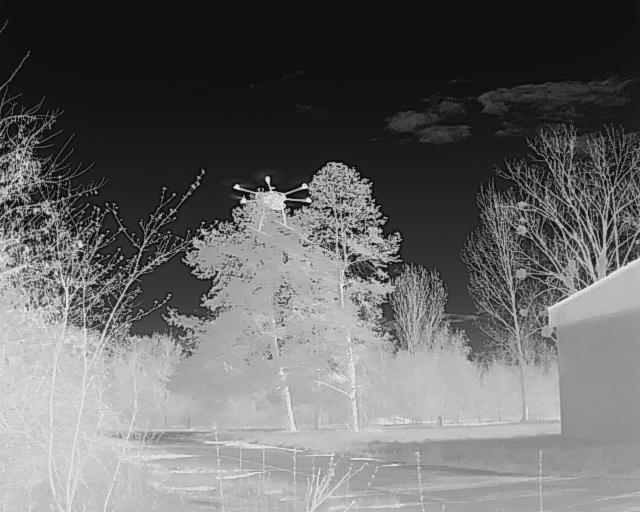drone: (225, 170, 323, 236)
